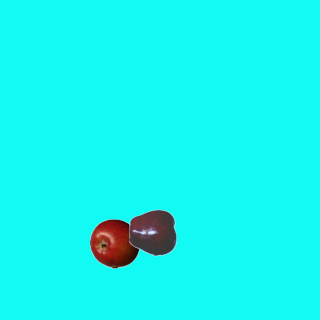Apple Braeburn: (89, 218, 139, 268)
Apple Red Delicious: (128, 207, 178, 257)
